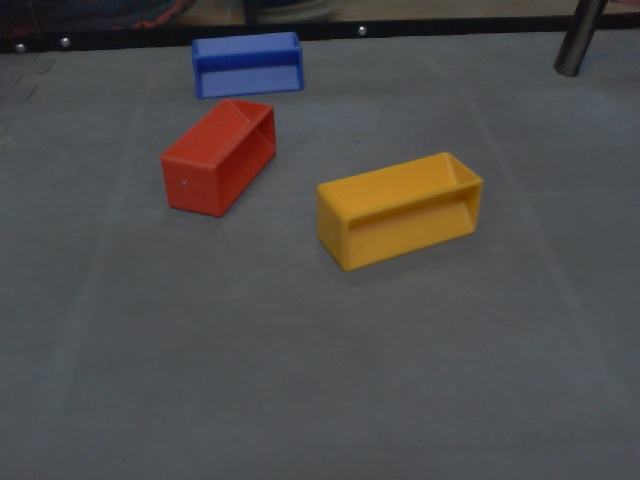BlueSample: (189, 30, 305, 100)
RedSample: (158, 97, 277, 218)
YellowSample: (314, 147, 485, 275)
